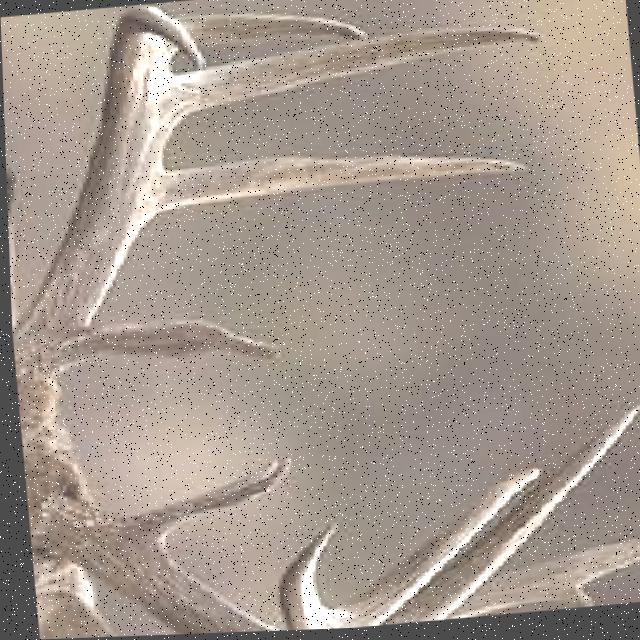L-G1: (116, 457, 288, 547)
R-F: (11, 7, 204, 372)
R-G1: (61, 318, 284, 366)
R-G2: (153, 155, 527, 211)
R-G3: (167, 28, 541, 130)
